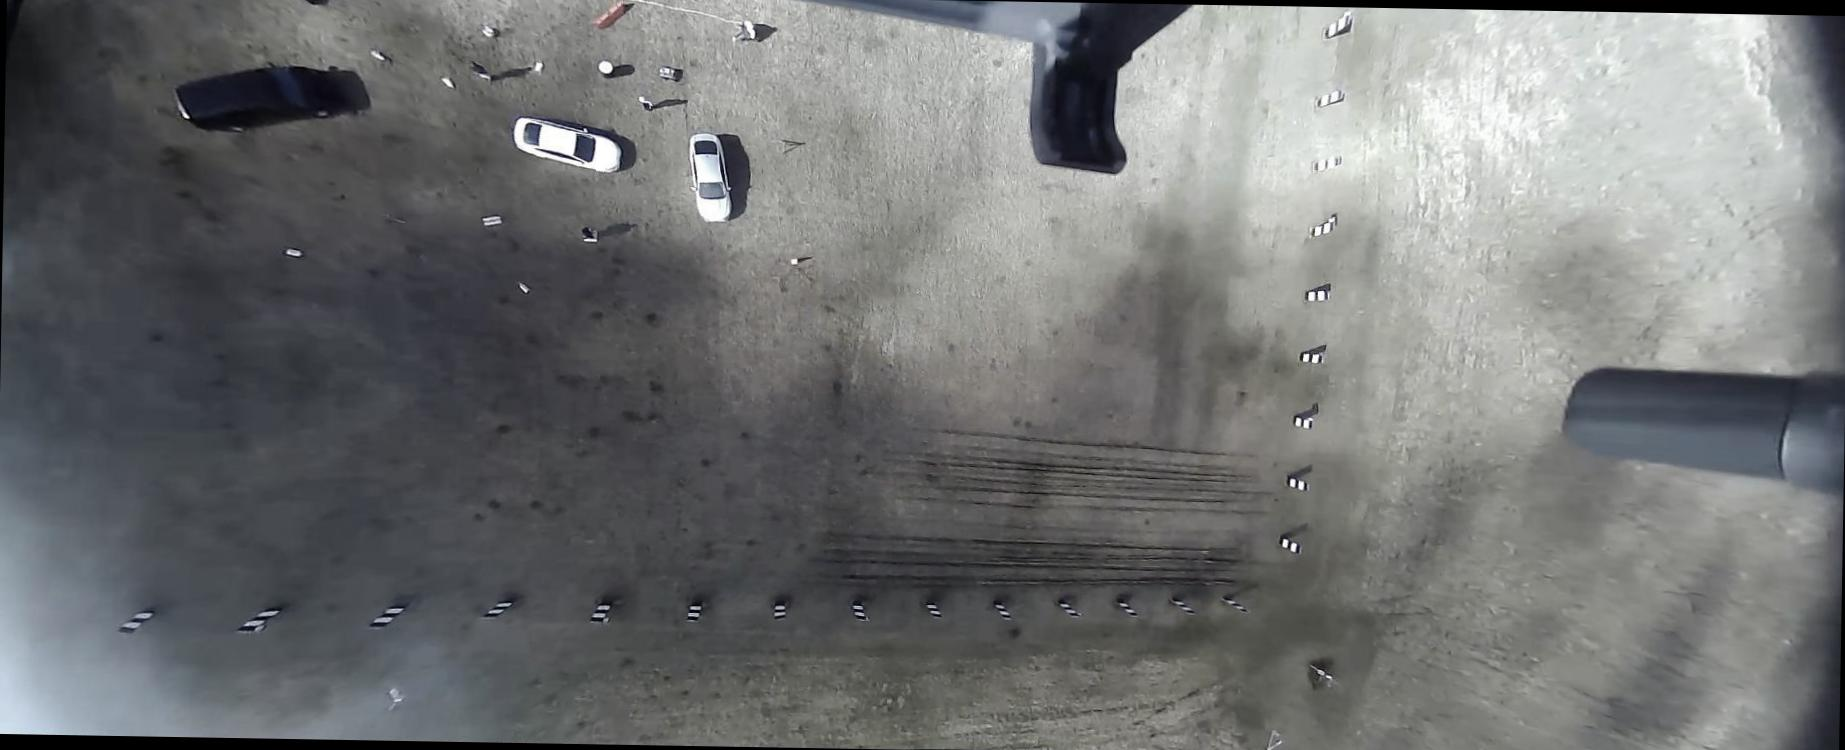vehicle: (170, 60, 348, 134), (510, 116, 622, 174), (686, 132, 734, 223)
